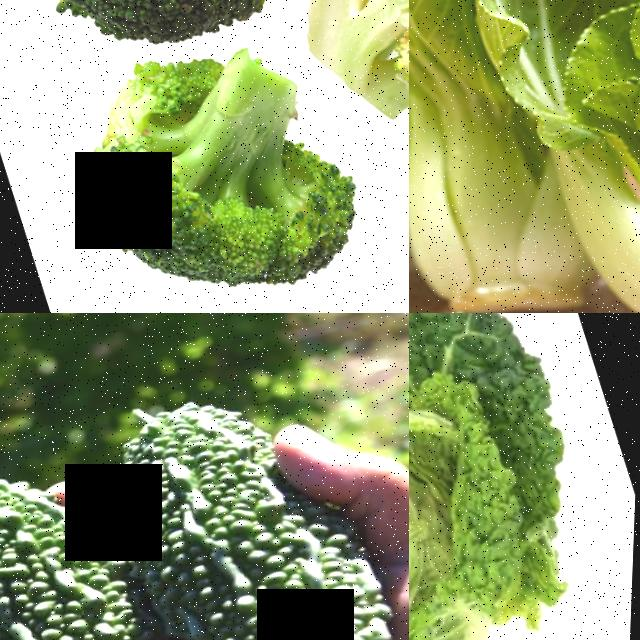-: (54, 9, 375, 313)
bitter gourd: (107, 345, 409, 640), (0, 416, 219, 640)
bok choy: (409, 0, 598, 313), (496, 0, 640, 313)
broccoli: (0, 0, 320, 94), (266, 0, 409, 189)
cabbage: (409, 313, 640, 640)
